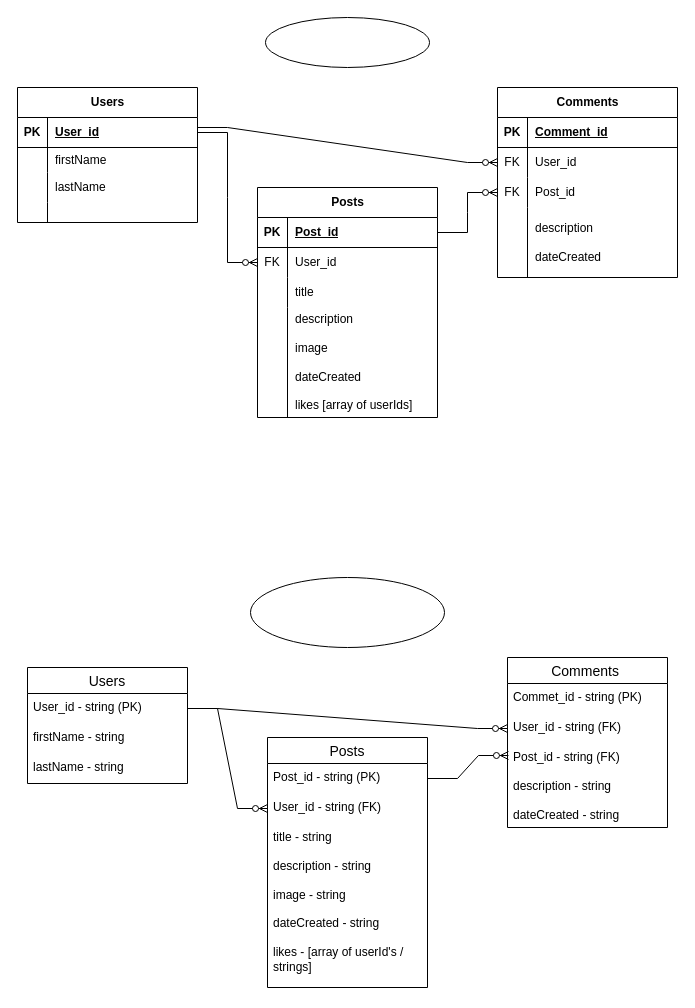
Image size: 695x1008. Some labels were removed from this diagram. Here are the shapes that lost their labels. From the top down, the box of each, then its label:
(264, 16, 430, 68): MongoDB Logical Model
(250, 576, 444, 648): MongoDB Physical Model
